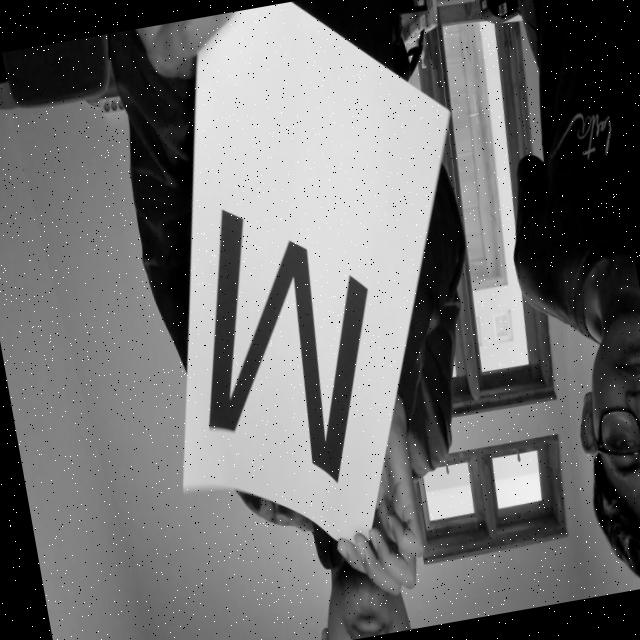m: (158, 153, 408, 516)
